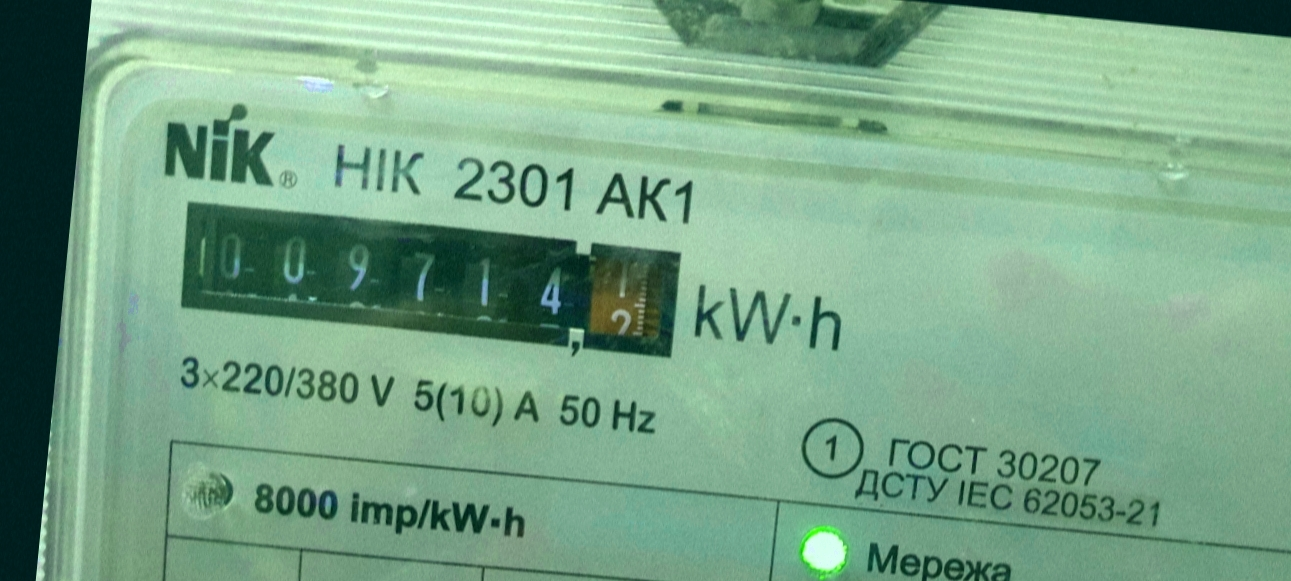0: (214, 228, 248, 284), (278, 231, 310, 287)
1: (471, 253, 499, 310), (613, 257, 632, 301)
2: (607, 305, 634, 337)
4: (535, 263, 569, 319)
7: (407, 249, 438, 305)
9: (340, 240, 373, 295)
screen: (161, 185, 700, 378)
